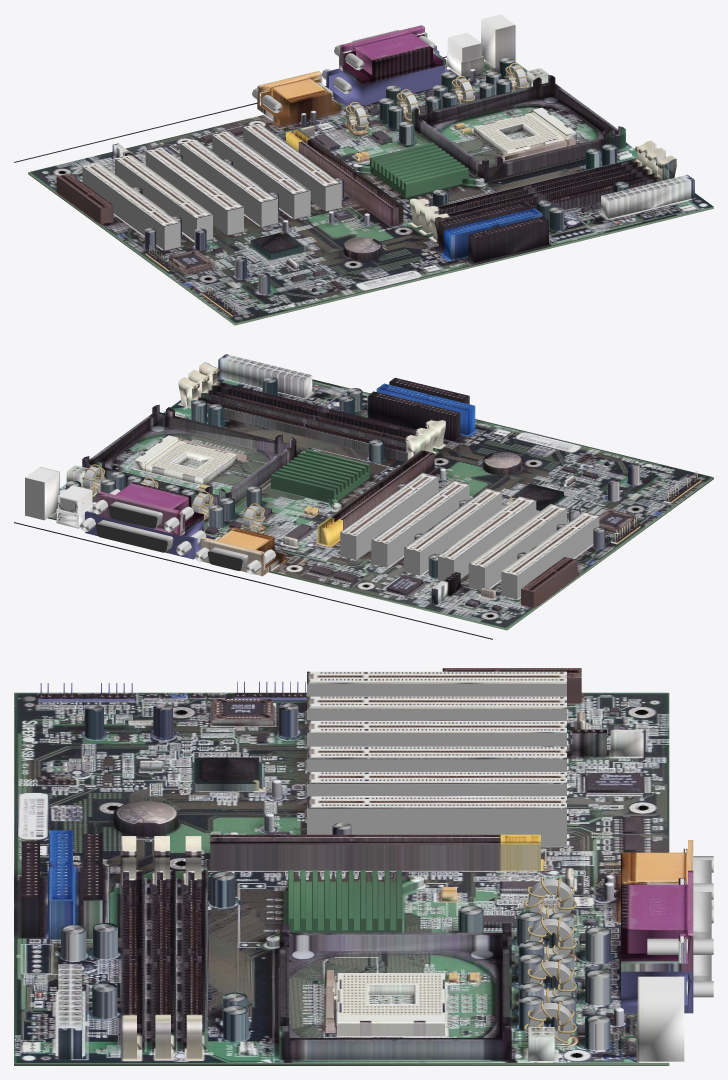
Rendered from motherBoard.fbx.
The picture shows the model from 3 angles, top to bottom: view 1: azimuth 30°, elevation 25°; view 2: azimuth 150°, elevation 25°; view 3: azimuth 270°, elevation 25°; orthographic projection. The views are drawn at different scales.
Parts seen in each view (by area): view 1: Motherboard:mainboard; view 2: Motherboard:mainboard; view 3: Motherboard:mainboard.
Boxes of the visible parts, x1,y1,x2,y2 form: Motherboard:mainboard: (14,14,713,325); Motherboard:mainboard: (14,354,713,639); Motherboard:mainboard: (14,668,713,1065).
Size of the model in its own units: 5.31 by 0.505 by 4.24.
8 materials, 1 textured.
